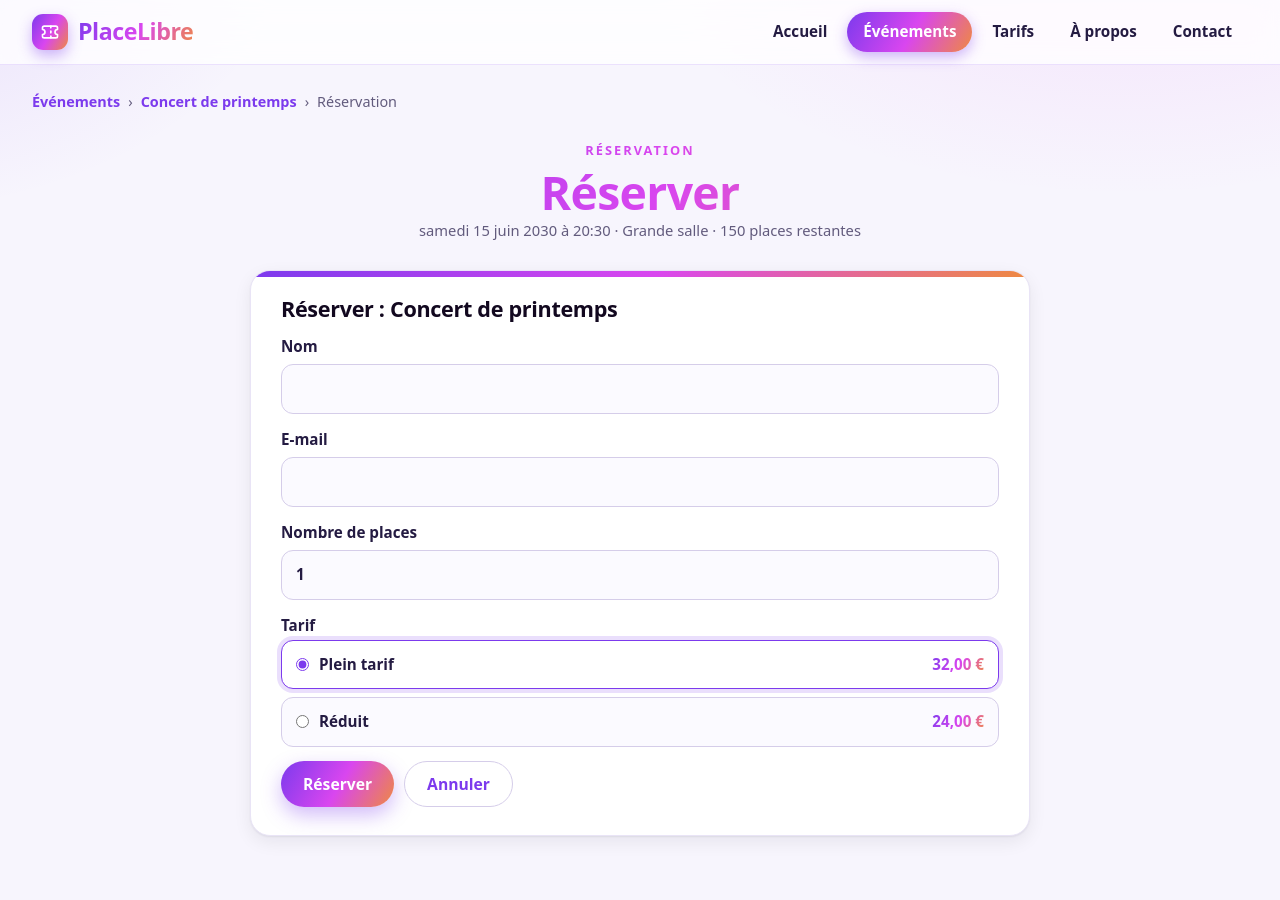
it: page de réservation (/evenements/:id/reserver) › « Annuler » ramène à la page de détail de l'événement
Click the button "Annuler" at (459, 784), box [404,761,513,807]
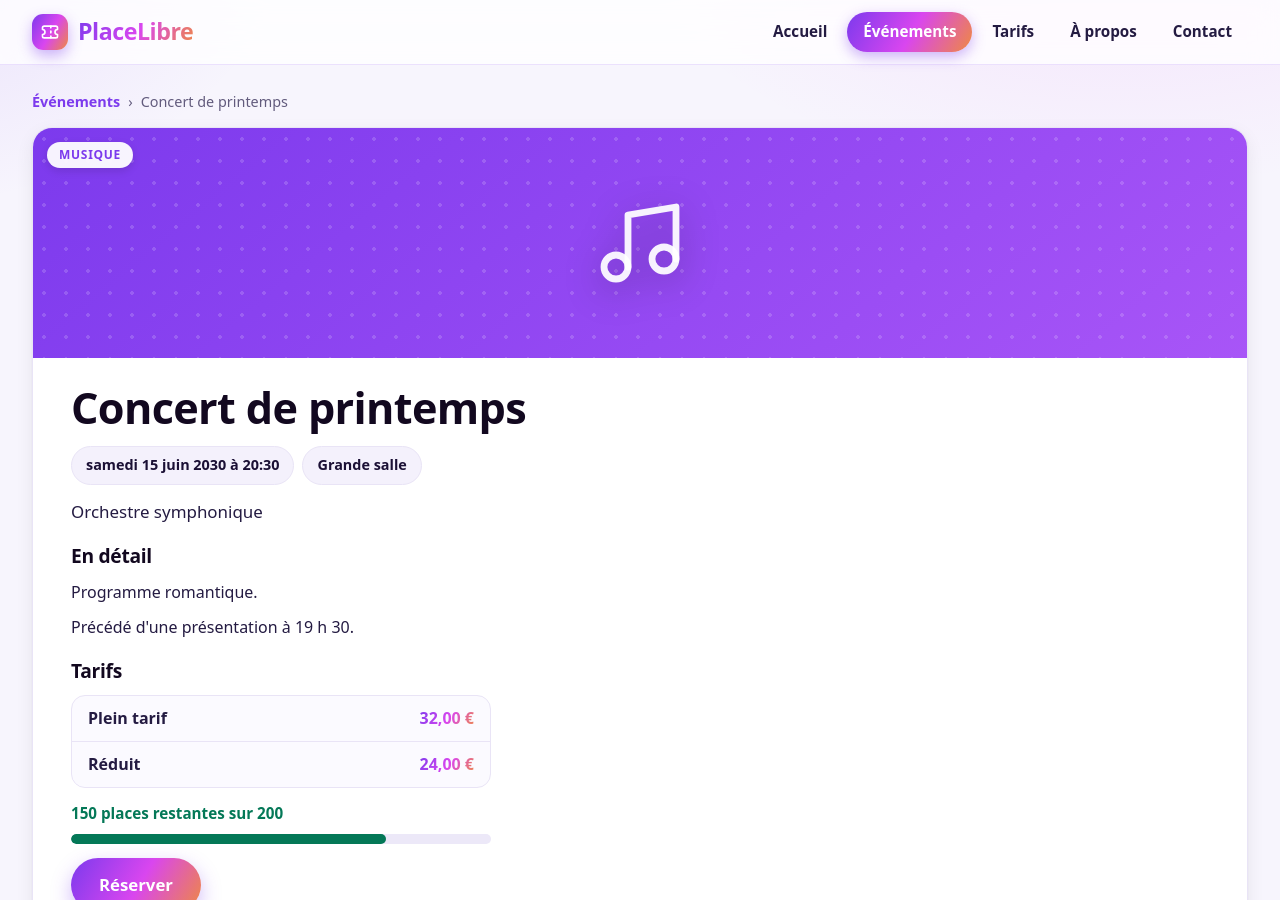
Check: the heading "Concert de printemps" is shown, box [71,378,526,437]
Check: the form is gone
